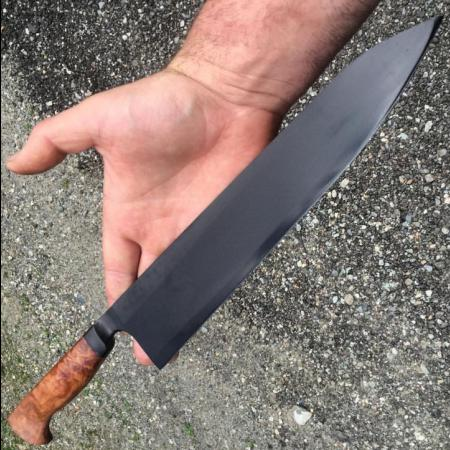long weapon: (93, 11, 446, 318)
